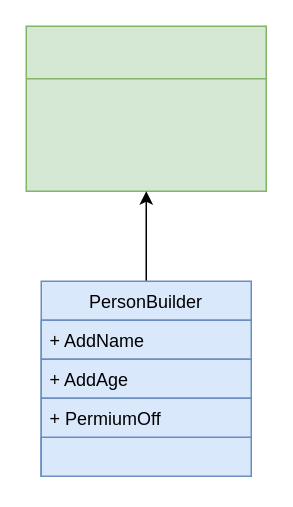
Some shapes in this 293 by 507 pixel diagram are drawn without their labels. The shapes that lost their labels are listed below. From the top down, each one's centre as x and y in pixels, then its label:
At point 145,108: "«interface» IBuilder + AddName + AddAge + PremiumOff + PreimuimOn".
At point 145,456: "+ PremiumOn".
